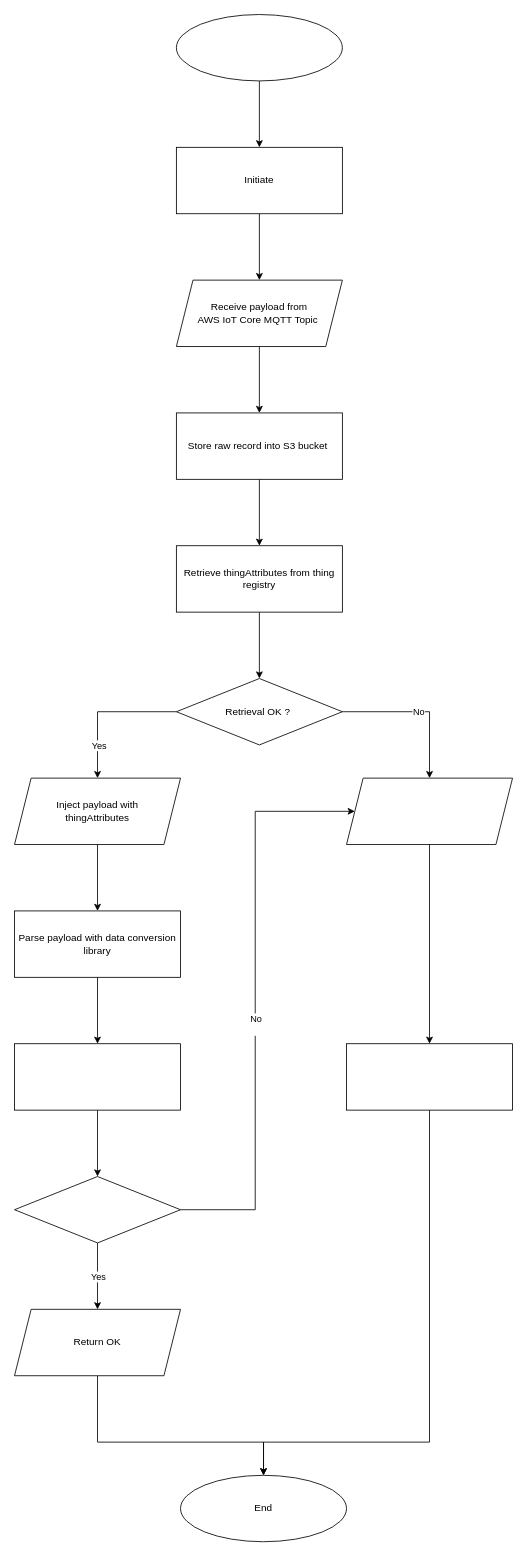
Some shapes in this 527 by 1556 pixel diagram are drawn without their labels. The shapes that lost their labels are listed below. From the top down, each one's centre as x and y in pixels, then its label:
(259,47): Start
(429,811): Return error code
(97,1076): Compose and write AWS Timestream record with dimensions
(429,1076): Put payload to SQS dead-letter queue
(97,1209): Timestream Write OK ?
